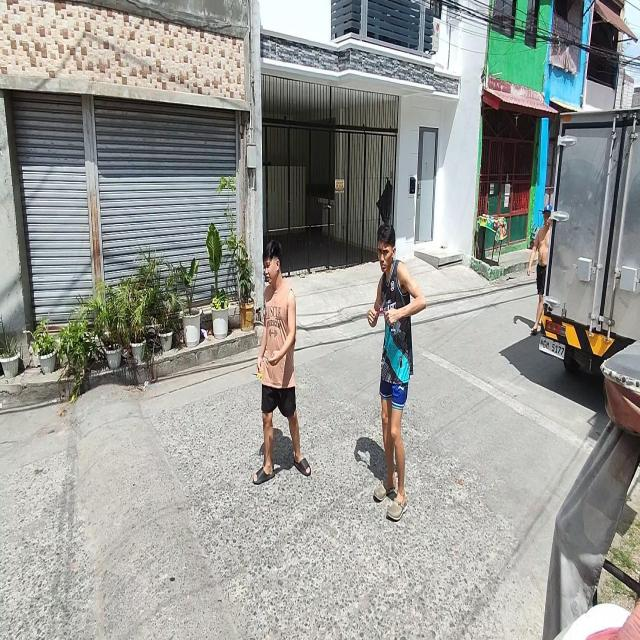scissor: (252, 368, 264, 381), (376, 299, 384, 318)
